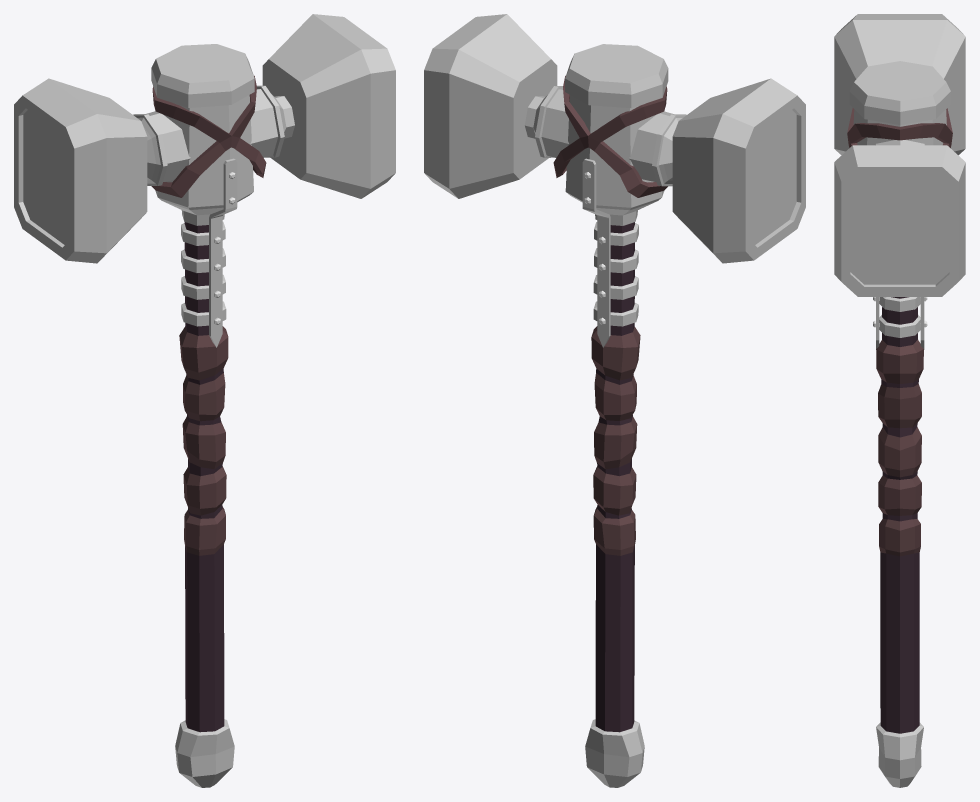
The model's file is q_hammer_double.glb.
3 views of the same model, side by side, from view 1: azimuth 30°, elevation 25°; view 2: azimuth 150°, elevation 25°; view 3: azimuth 270°, elevation 25° (orthographic). The views are drawn at different scales.
Visible parts, largest first — view 1: Hammer_Double; view 2: Hammer_Double; view 3: Hammer_Double.
Part boxes in pixels (x1,y1,x2,y2): Hammer_Double: (14, 14, 395, 787); Hammer_Double: (424, 14, 805, 787); Hammer_Double: (834, 14, 965, 787).
Bounding box in the file's own units: 0.5904 × 1.26 × 0.2146.
